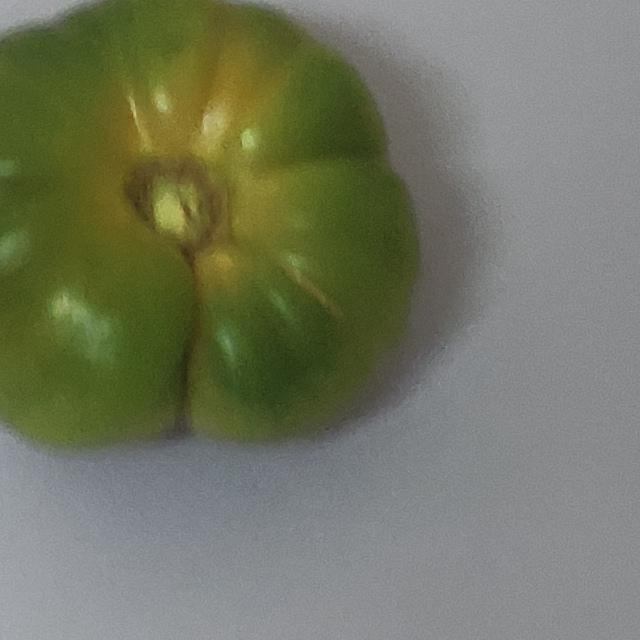tomato: (0, 0, 548, 504)
